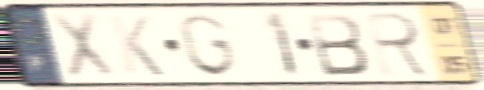1: (262, 9, 302, 81)
B: (303, 11, 373, 78)
G: (176, 11, 241, 80)
K: (106, 13, 167, 79)
R: (363, 9, 436, 80)
X: (46, 10, 120, 82)
